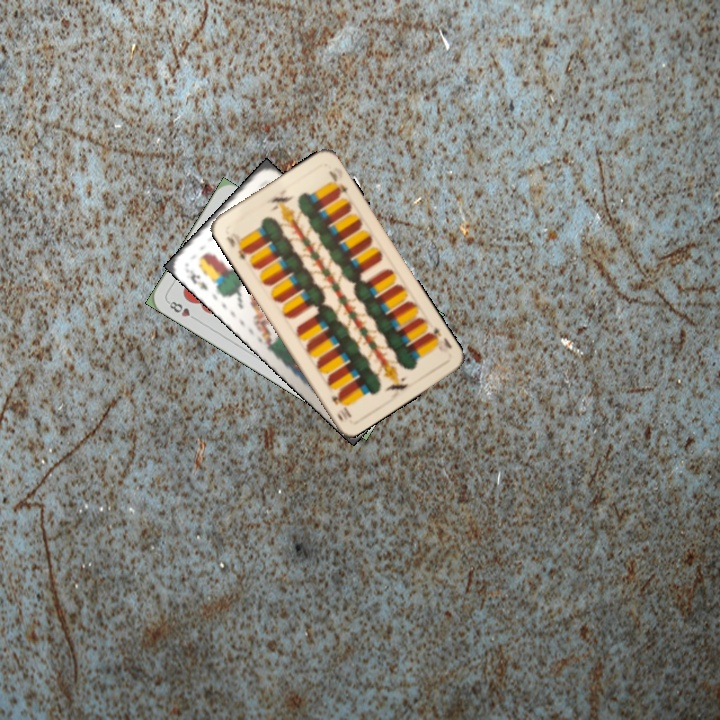E10: (222, 232, 252, 262), (423, 323, 454, 351)
EK: (186, 269, 210, 293)
H8: (164, 297, 200, 323)
